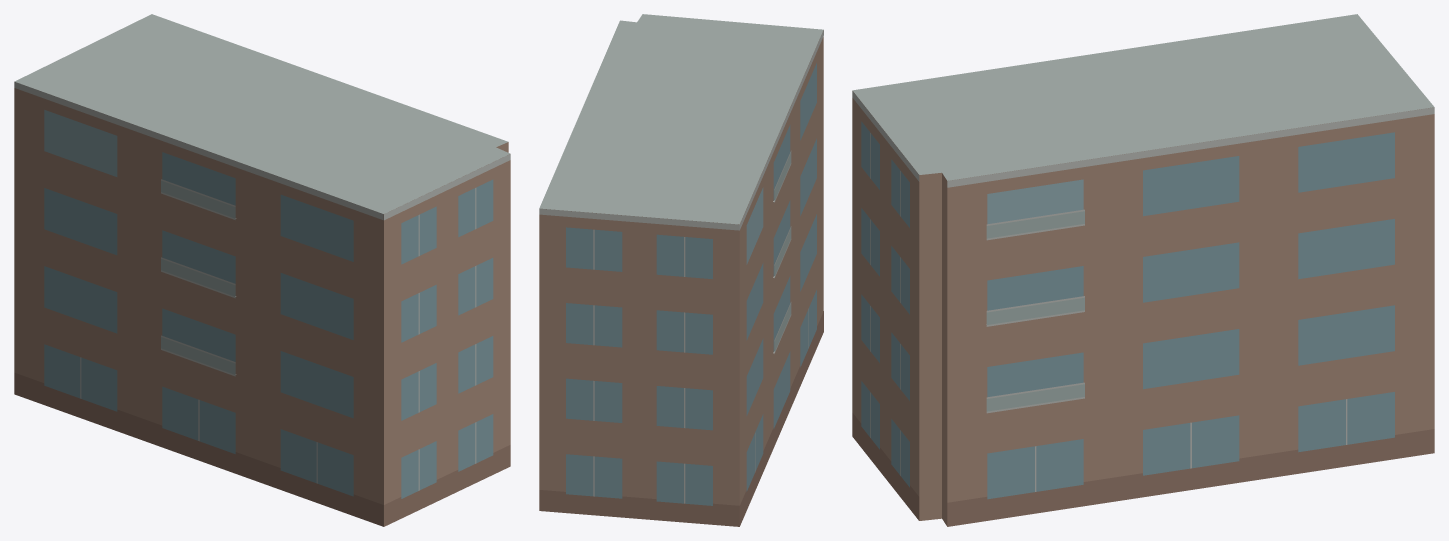
Rendered from survey-upis-32797515.glb.
3 views of the same model, side by side, from view 1: azimuth 30°, elevation 25°; view 2: azimuth 150°, elevation 25°; view 3: azimuth 270°, elevation 25° (orthographic). The views are drawn at different scales.
Visible parts, largest first — view 1: survey-upis-32797515.tmp; view 2: survey-upis-32797515.tmp; view 3: survey-upis-32797515.tmp.
Part boxes in pixels (x1,y1,x2,y2): survey-upis-32797515.tmp: (14, 14, 510, 526); survey-upis-32797515.tmp: (539, 14, 823, 526); survey-upis-32797515.tmp: (852, 14, 1434, 526).
Size of the model in its own units: 12.63 by 12.2 by 18.62.
